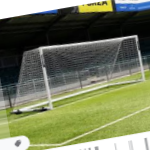goals: (12, 34, 146, 113)
